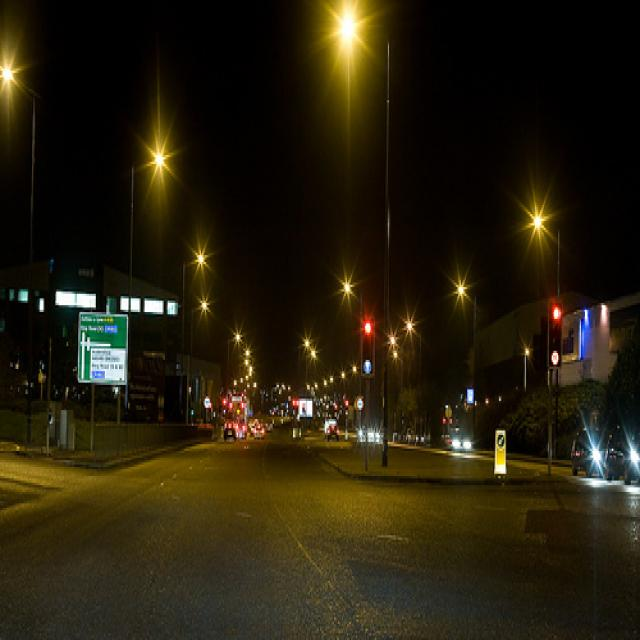Vehicle: (603, 427, 640, 484), (571, 429, 606, 478), (223, 419, 239, 442), (254, 424, 264, 440), (250, 425, 254, 437)
